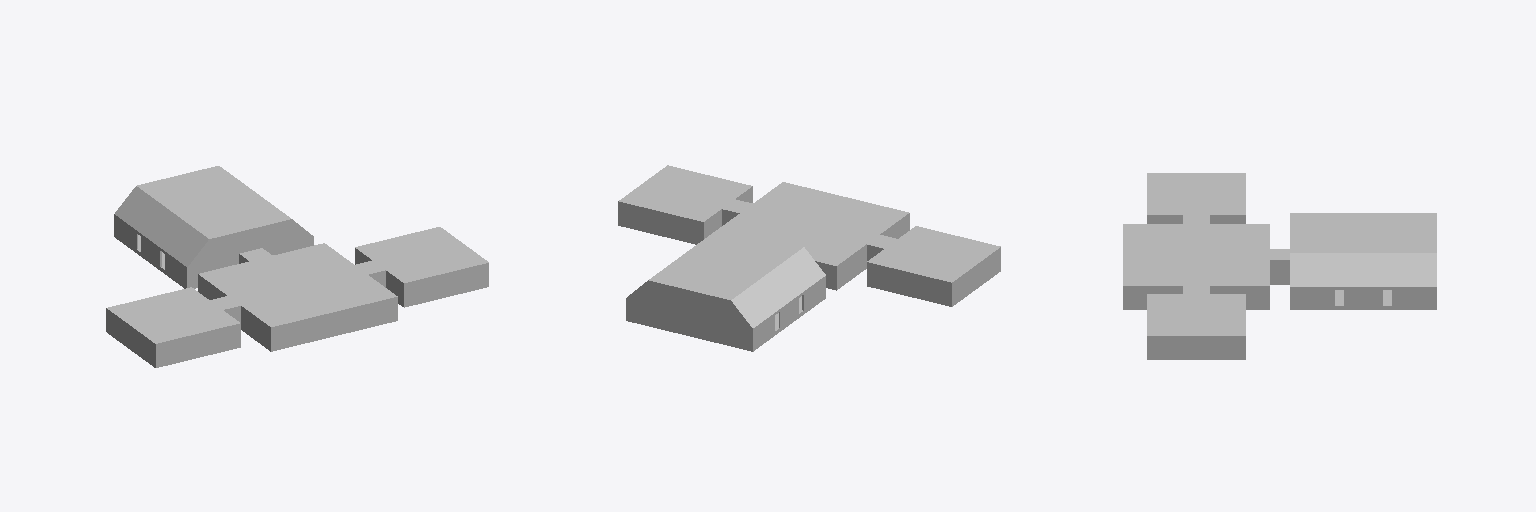
File: Map.obj
3 renders of one model, left to right at view 1: azimuth 30°, elevation 25°; view 2: azimuth 150°, elevation 25°; view 3: azimuth 270°, elevation 25°, orthographic.
Visible parts, largest first — view 1: StaticMeshActor_1; view 2: StaticMeshActor_1; view 3: StaticMeshActor_1.
Part boxes in pixels (bbox=[...]): StaticMeshActor_1: bbox=[106, 166, 488, 367]; StaticMeshActor_1: bbox=[618, 165, 1000, 351]; StaticMeshActor_1: bbox=[1123, 173, 1436, 359].
Bounding box in the file's own units: 4128 × 544 × 3360.